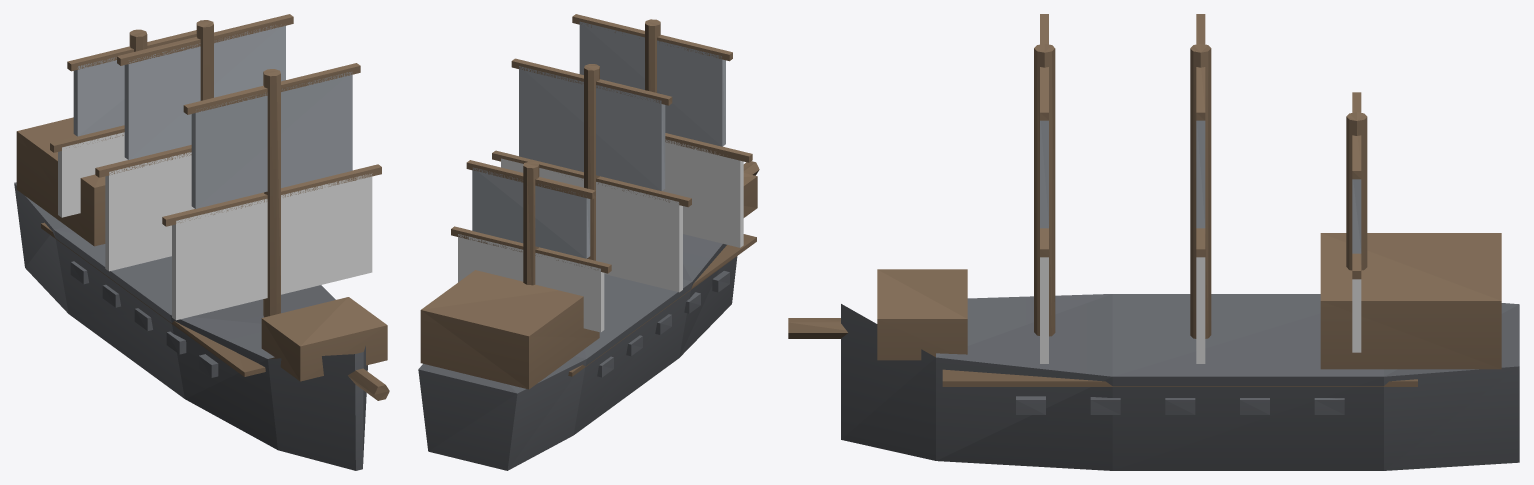
Rendered from Privateer.glb.
The picture shows the model from 3 angles, left to right: view 1: azimuth 30°, elevation 25°; view 2: azimuth 150°, elevation 25°; view 3: azimuth 270°, elevation 25°; orthographic projection. The views are drawn at different scales.
Parts seen in each view (by area): view 1: Body; view 2: Body; view 3: Body.
Boxes of the visible parts, x1,y1,x2,y2 form: Body: [14, 14, 389, 470]; Body: [418, 14, 759, 470]; Body: [788, 14, 1519, 470].
Bounding box in the file's own units: 0.3861 × 0.57 × 0.97.
